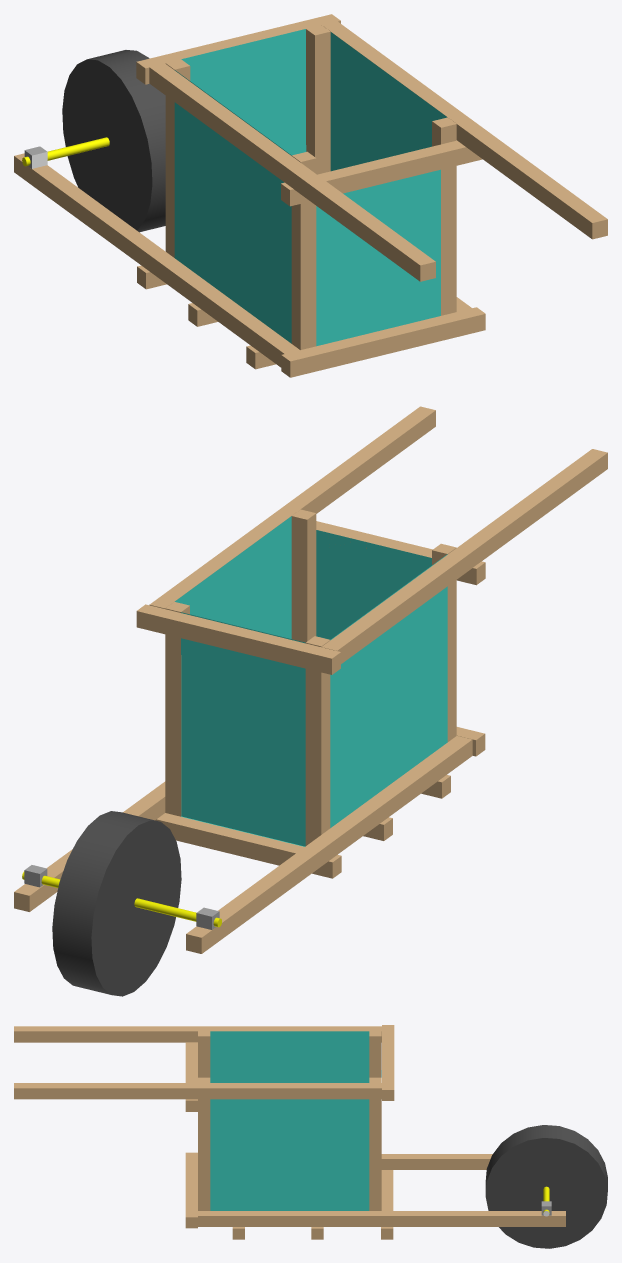
The model's file is wheelbarrow.dae.
The picture shows the model from 3 angles, top to bottom: view 1: azimuth 30°, elevation 25°; view 2: azimuth 150°, elevation 25°; view 3: azimuth 270°, elevation 25°; orthographic projection. The views are drawn at different scales.
Visible parts, largest first — view 1: SketchUp (×4), gridbeam_40mm_horizontal_1.2m (×3), gridbeam_40mm_vertical_0.5m (×7), wheel; view 2: SketchUp (×4), gridbeam_40mm_horizontal_1.2m (×4), gridbeam_40mm_vertical_0.5m (×7), wheel; view 3: SketchUp (×2), gridbeam_40mm_horizontal_1.2m (×4), wheel, gridbeam_40mm_vertical_0.5m (×8).
Boxes of the visible parts, bbox=[...] form: SketchUp (×4): bbox=[22, 29, 447, 346]; gridbeam_40mm_horizontal_1.2m (×3): bbox=[14, 21, 607, 367]; gridbeam_40mm_vertical_0.5m (×7): bbox=[136, 14, 485, 377]; wheel: bbox=[62, 50, 165, 232]; SketchUp (×4): bbox=[22, 516, 447, 927]; gridbeam_40mm_horizontal_1.2m (×4): bbox=[14, 406, 607, 953]; gridbeam_40mm_vertical_0.5m (×7): bbox=[136, 509, 485, 878]; wheel: bbox=[52, 811, 181, 996]; SketchUp (×2): bbox=[210, 1031, 369, 1210]; gridbeam_40mm_horizontal_1.2m (×4): bbox=[14, 1026, 565, 1226]; wheel: bbox=[485, 1125, 607, 1248]; gridbeam_40mm_vertical_0.5m (×8): bbox=[185, 1025, 394, 1239].
Bounding box in the file's own units: 19.72 × 76.27 × 26.01.
